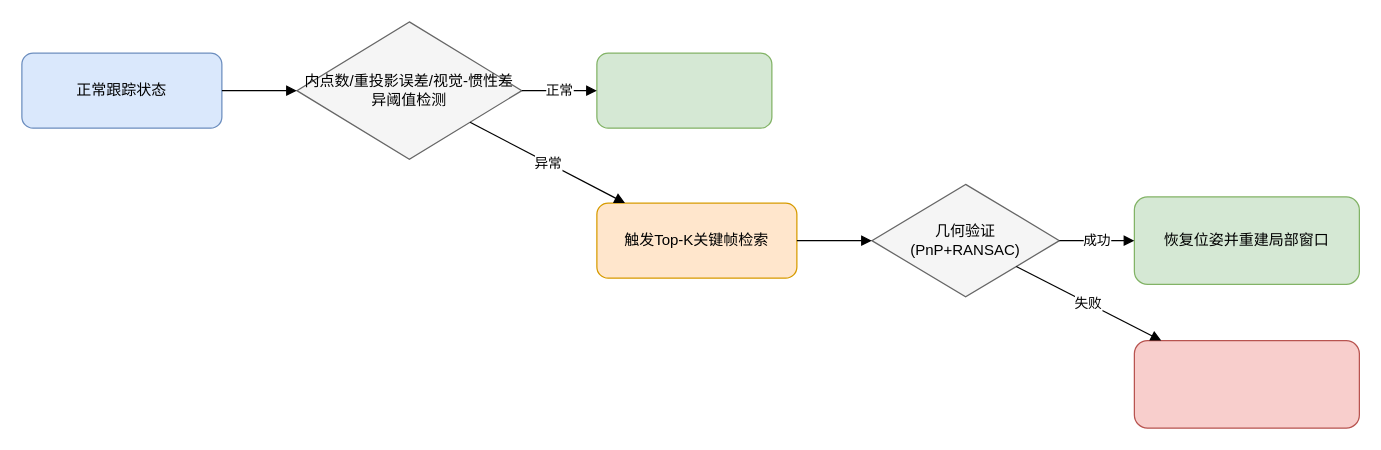
Image size: 1381x450. Some labels were removed from this diagram. The shapes that lost their labels are listed below. From the top down, each one's box as (x1, y1, x2, y2) in pixels, then its label:
(596, 52, 772, 128): 继续VIO优化
(1133, 339, 1359, 428): 进入丢失状态 等待再次触发
